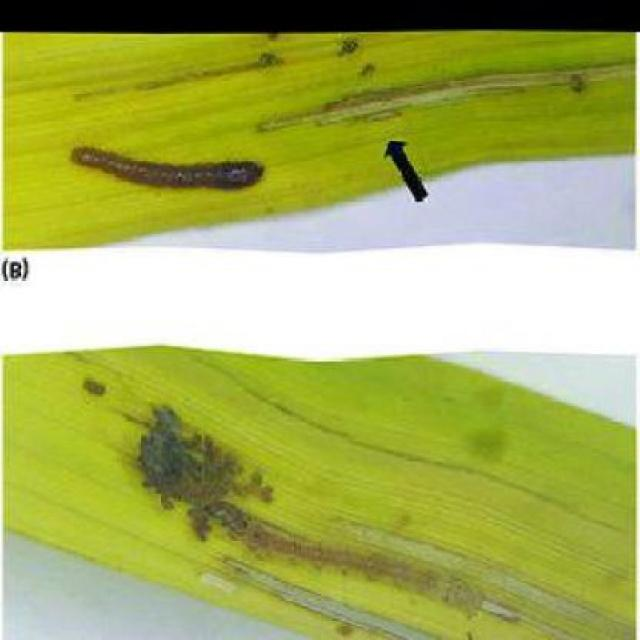leaf-folder: (117, 394, 241, 508), (226, 518, 419, 588), (66, 137, 266, 200)
